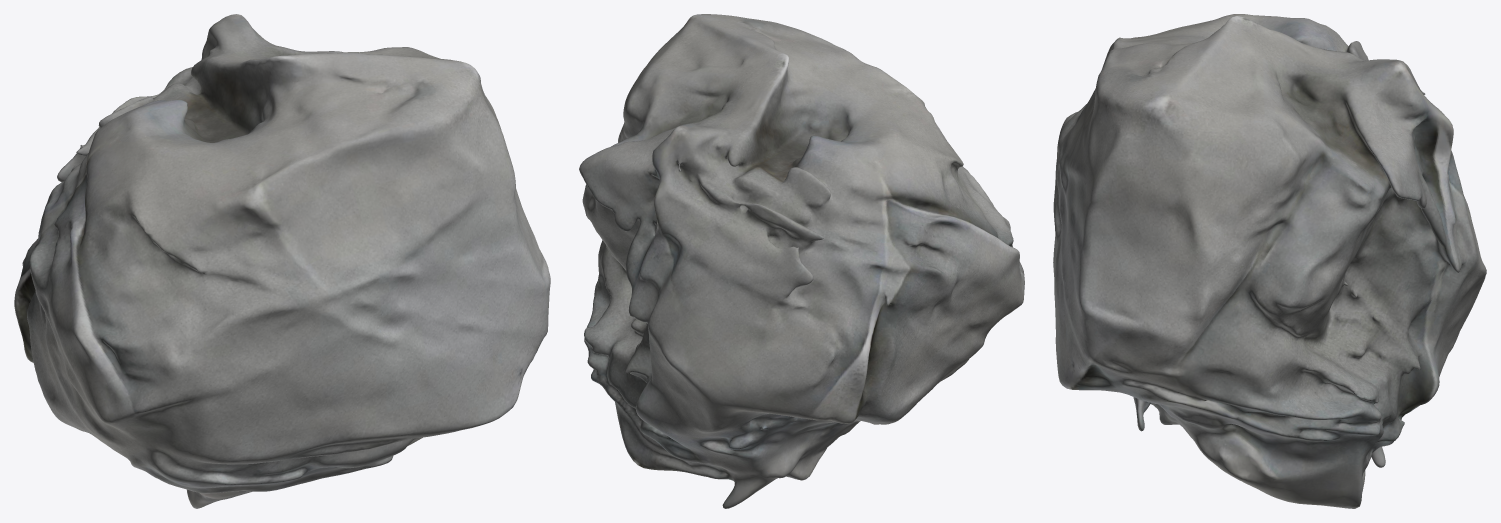
File: 9f7751d6f4e6_crumpled_paper_min.fbx
The picture shows the model from 3 angles, left to right: view 1: azimuth 30°, elevation 25°; view 2: azimuth 150°, elevation 25°; view 3: azimuth 270°, elevation 25°; orthographic projection. The views are drawn at different scales.
Parts seen in each view (by area): view 1: high_poly; view 2: high_poly; view 3: high_poly.
Part boxes in pixels (x1,y1,x2,y2): high_poly: (14, 14, 550, 508); high_poly: (579, 14, 1024, 508); high_poly: (1053, 14, 1486, 508).
Size of the model in its own units: 100 by 98.9 by 85.77.
